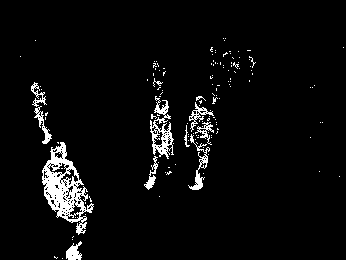person: (41, 142, 94, 260), (184, 95, 219, 192), (144, 99, 174, 191), (31, 82, 54, 145), (146, 57, 169, 104)
